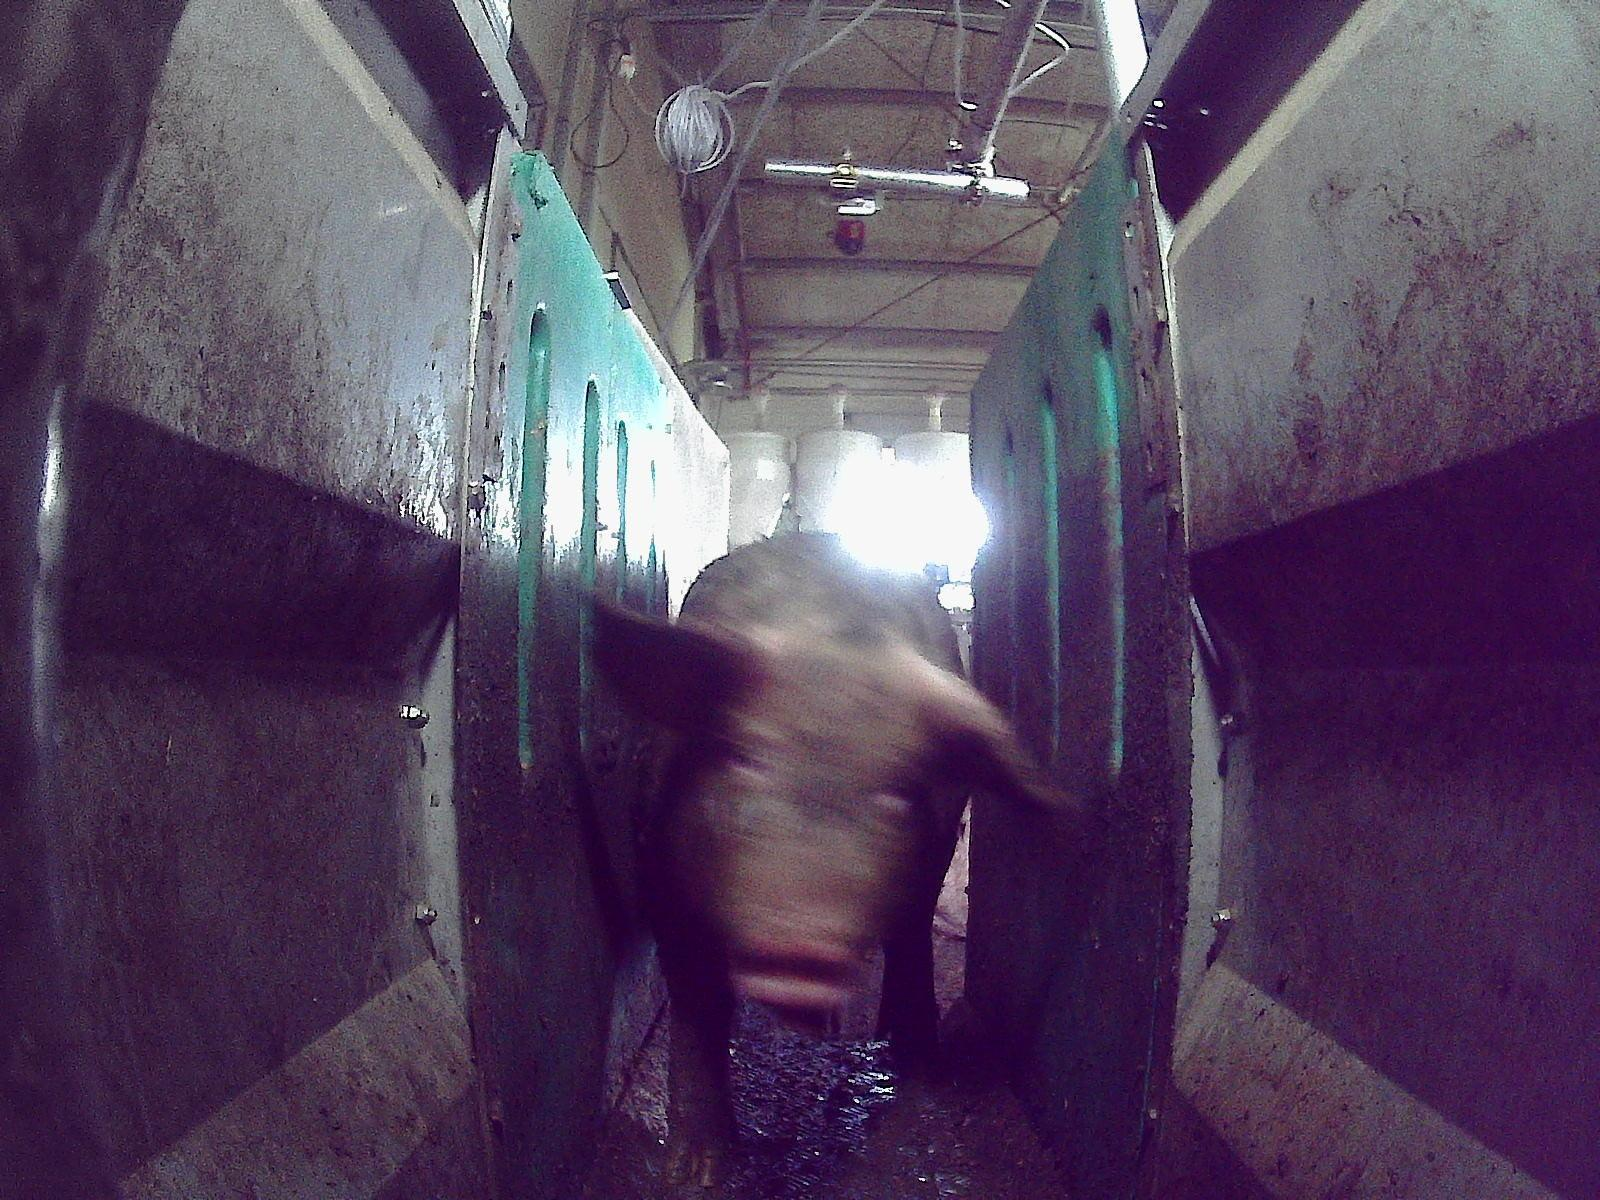Face: (659, 645, 937, 1022)
